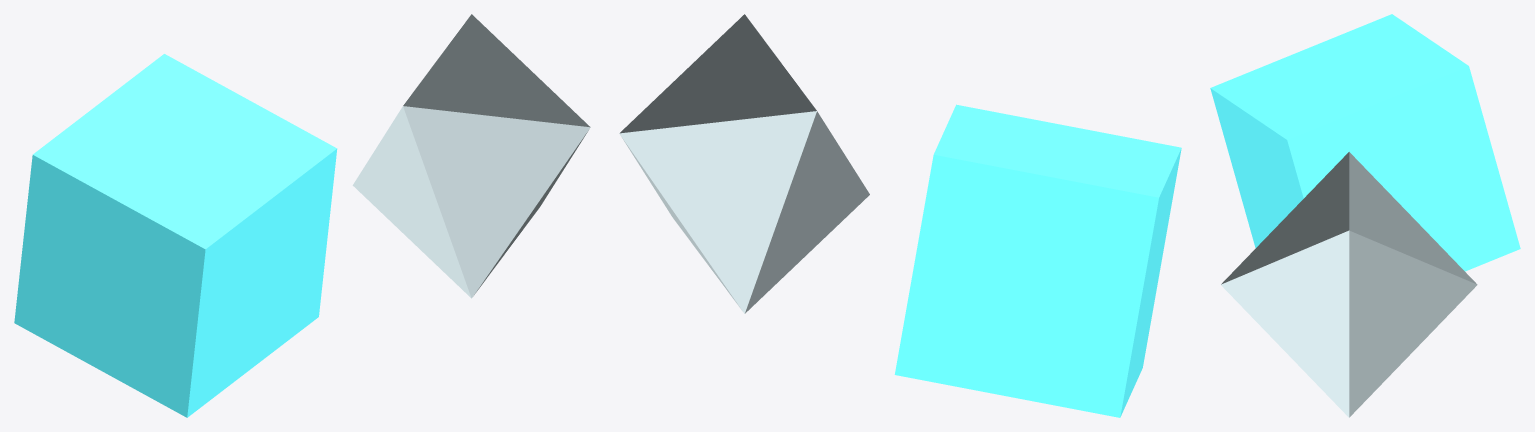
File: hero-objects.glb
3 views of the same model, side by side, from view 1: azimuth 30°, elevation 25°; view 2: azimuth 150°, elevation 25°; view 3: azimuth 270°, elevation 25° (orthographic). The views are drawn at different scales.
Parts seen in each view (by area): view 1: Cyan glass cube, Faceted prism; view 2: Cyan glass cube, Faceted prism; view 3: Cyan glass cube, Faceted prism.
Boxes of the visible parts, left/top/right/bottom form: Cyan glass cube: left=14, top=54, right=337, bottom=417; Faceted prism: left=352, top=14, right=590, bottom=298; Cyan glass cube: left=894, top=104, right=1181, bottom=417; Faceted prism: left=619, top=14, right=869, bottom=313; Cyan glass cube: left=1210, top=14, right=1520, bottom=271; Faceted prism: left=1221, top=152, right=1477, bottom=417.
Size of the model in its own units: 2.83 by 1.46 by 1.52.
